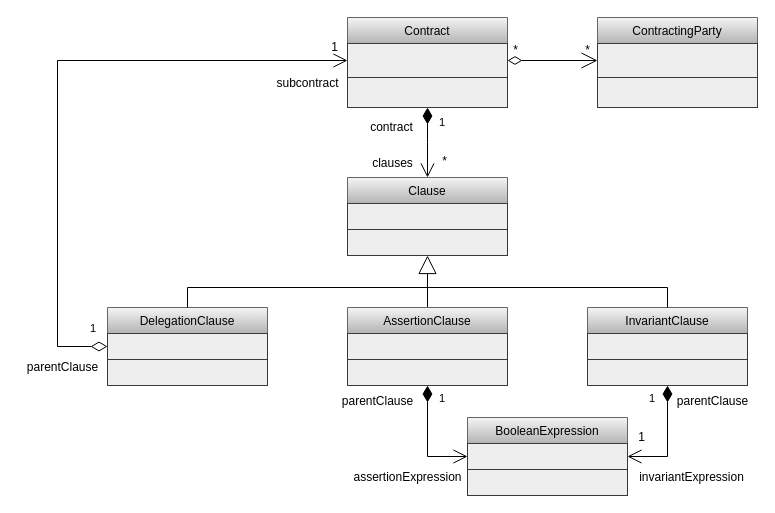
The diagram is 775 pixels wide and 513 high, and some of its shapes have lost their labels. The shapes that lost their labels are listed below. From the top down, each one's centre as x and y in pixels, then its label:
pixel 427 60: + intent: String
pixel 547 456: + expression: String
